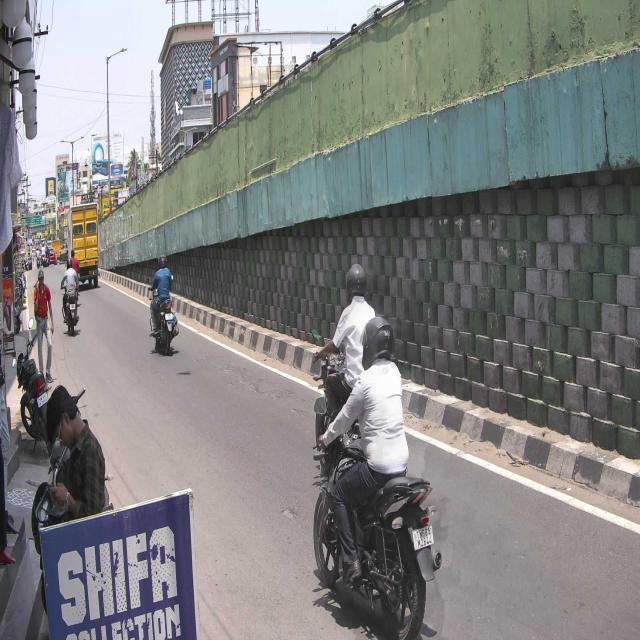single_rider: (312, 314, 444, 640)
